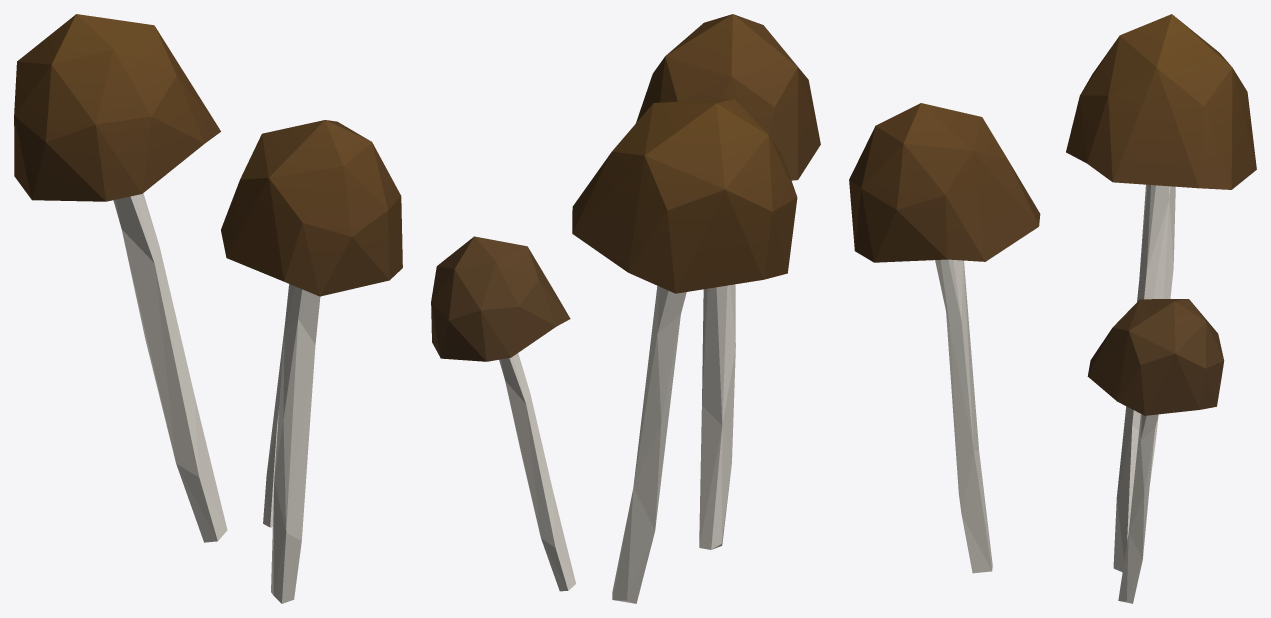
File: Mushroom_06.fbx
3 renders of one model, left to right at view 1: azimuth 30°, elevation 25°; view 2: azimuth 150°, elevation 25°; view 3: azimuth 270°, elevation 25°, orthographic. The views are drawn at different scales.
Visible parts, largest first — view 1: Mushroom_06; view 2: Mushroom_06; view 3: Mushroom_06.
Part boxes in pixels (x1,y1,x2,y2): Mushroom_06: (14,14,402,603); Mushroom_06: (431,14,820,603); Mushroom_06: (849,14,1256,603).
Bounding box in the file's own units: 0.1816 × 0.2809 × 0.2039.
